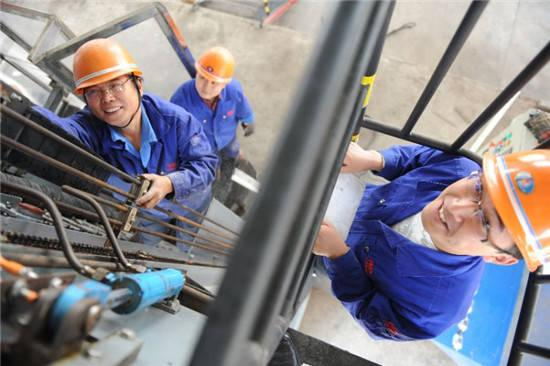helmet: (487, 147, 550, 277), (72, 38, 140, 84), (197, 50, 236, 84)
